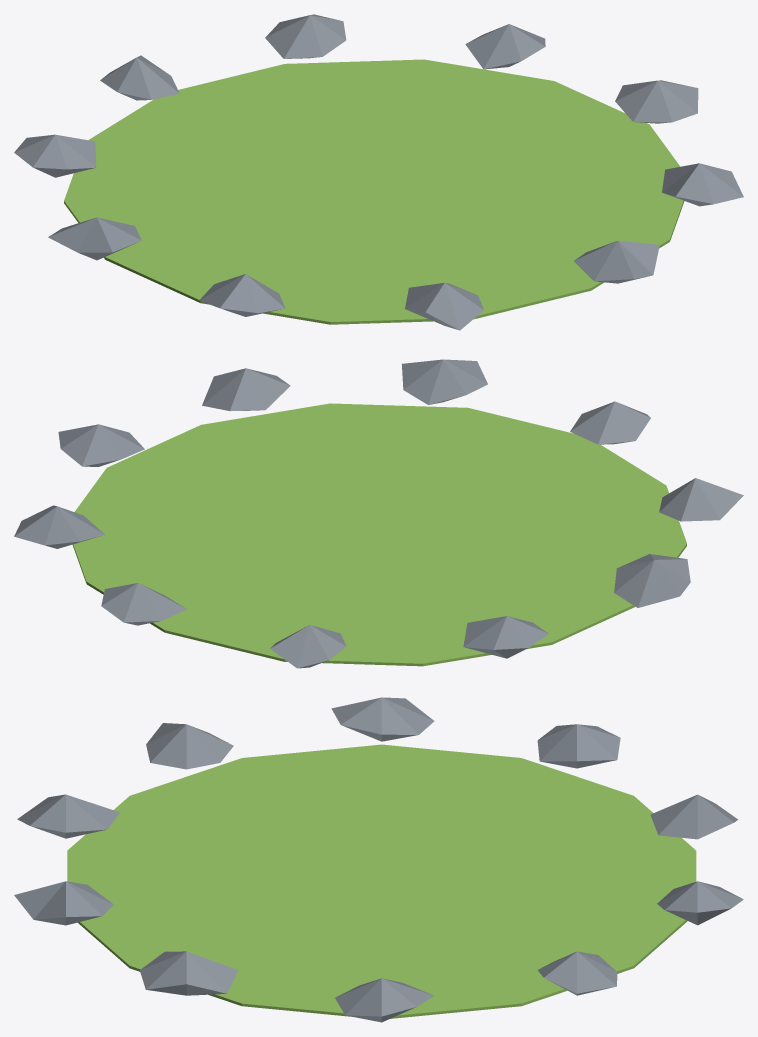
File: cave_pool_toxic.glb
3 views of the same model, one above another, from view 1: azimuth 30°, elevation 25°; view 2: azimuth 150°, elevation 25°; view 3: azimuth 270°, elevation 25° (orthographic). The views are drawn at different scales.
Visible parts, largest first — view 1: cave_pool_toxic_Mesh; view 2: cave_pool_toxic_Mesh; view 3: cave_pool_toxic_Mesh.
Boxes of the visible parts, box(x1,y1,x2,y2) form: cave_pool_toxic_Mesh: box(14, 14, 743, 330); cave_pool_toxic_Mesh: box(14, 359, 743, 668); cave_pool_toxic_Mesh: box(14, 697, 743, 1022).
Bounding box in the file's own units: 3.87 × 0.2575 × 3.74.
